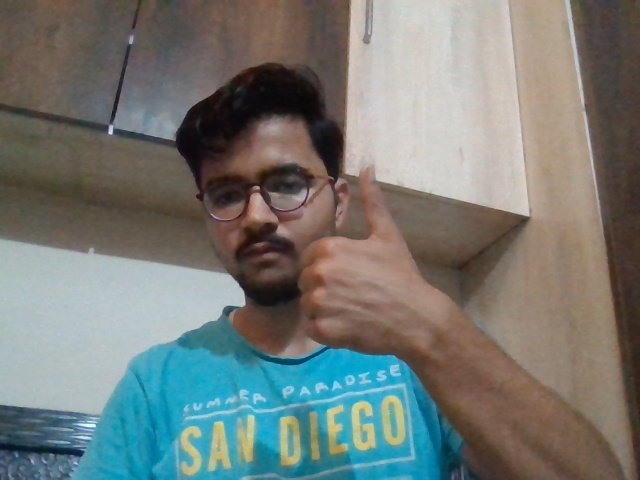yes: (303, 160, 451, 393)
